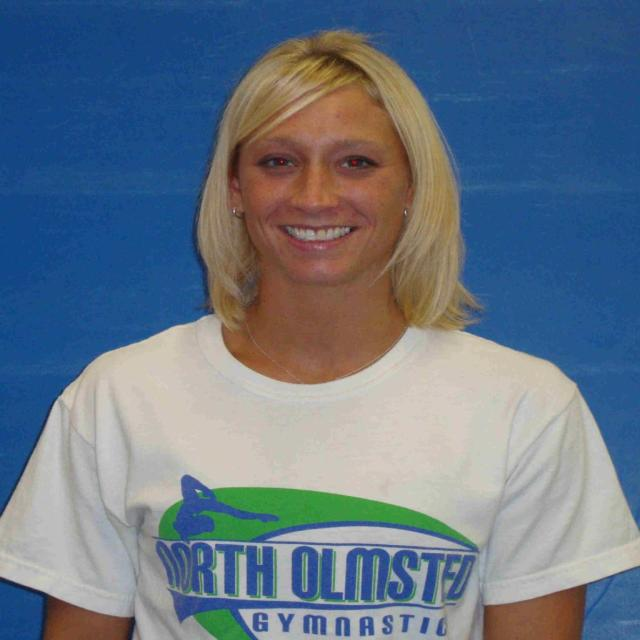Face: (234, 92, 410, 285)
